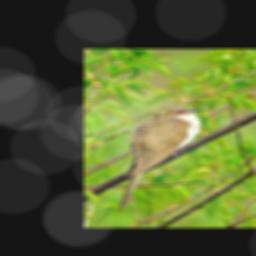Cuckoo: (116, 106, 205, 213)
